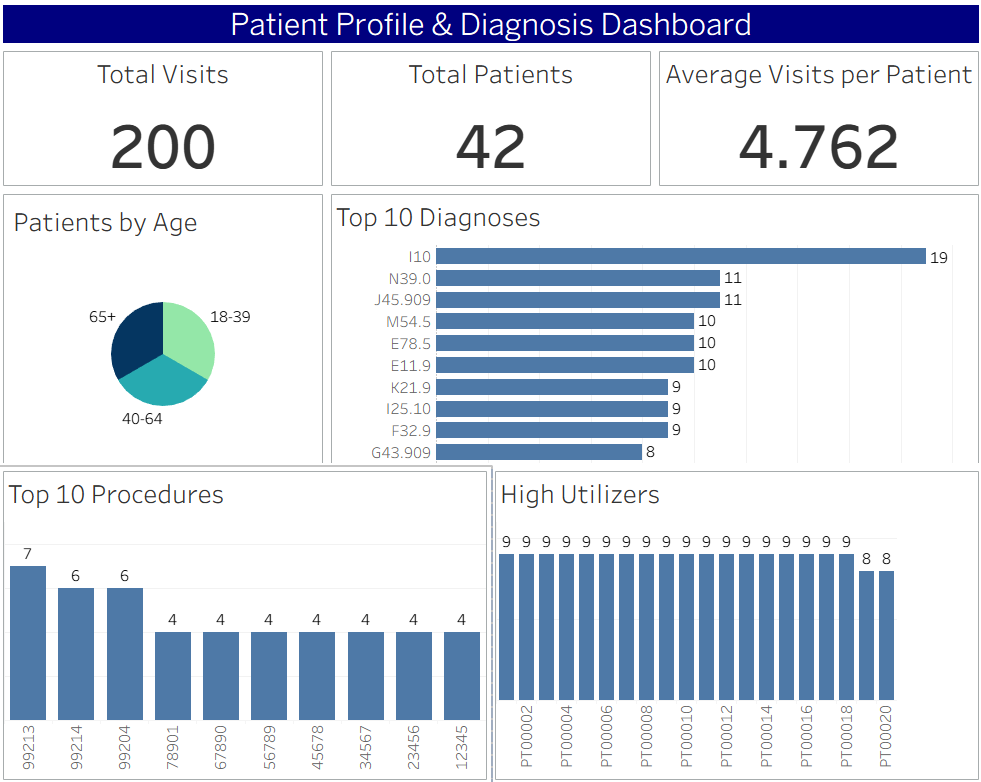

This screenshot's page, from the dashboard's own definition file:
{"tool":"tableau","page":{"name":"Dashboard 1","canvas":[1000,800],"ordinal":0},"visuals":[{"type":"title","box":[8,8,984,46]},{"type":"worksheet","title":"Total Visits","mark":"Text","box":[8,54,328,143]},{"type":"worksheet","title":"Total Patients","mark":"Text","box":[336,54,328,143]},{"type":"worksheet","title":"Average Visits per Patient","mark":"Automatic","box":[664,54,328,143]},{"type":"worksheet","title":"Patients by Age","mark":"Pie","box":[8,196.9,328.3,277.6]},{"type":"worksheet","title":"Top 10 Diagnoses","mark":"Automatic","rows":["icd_code"],"cols":["icd_code"],"box":[336.3,196.9,655.7,277.6]},{"type":"worksheet","title":"Top 10 Procedures","mark":"Automatic","rows":["cpt_code"],"cols":["cpt_code"],"box":[8,474,492,318]},{"type":"worksheet","title":"High Utilizers","mark":"Automatic","rows":["visit_id"],"cols":["patient_id"],"box":[500,474,492,318]}]}

Visuals, with their boxes in screenshot pixels (x1, y1, x2, y2), scaled from the page's 1000x800 canvas onto the 981x782 screenshot:
title: locate(8, 8, 973, 53)
"Total Visits" worksheet (Text marks): locate(8, 53, 330, 193)
"Total Patients" worksheet (Text marks): locate(330, 53, 651, 193)
"Average Visits per Patient" worksheet: locate(651, 53, 973, 193)
"Patients by Age" worksheet (Pie marks): locate(8, 192, 330, 464)
"Top 10 Diagnoses" worksheet: locate(330, 192, 973, 464)
"Top 10 Procedures" worksheet: locate(8, 463, 490, 774)
"High Utilizers" worksheet: locate(490, 463, 973, 774)
